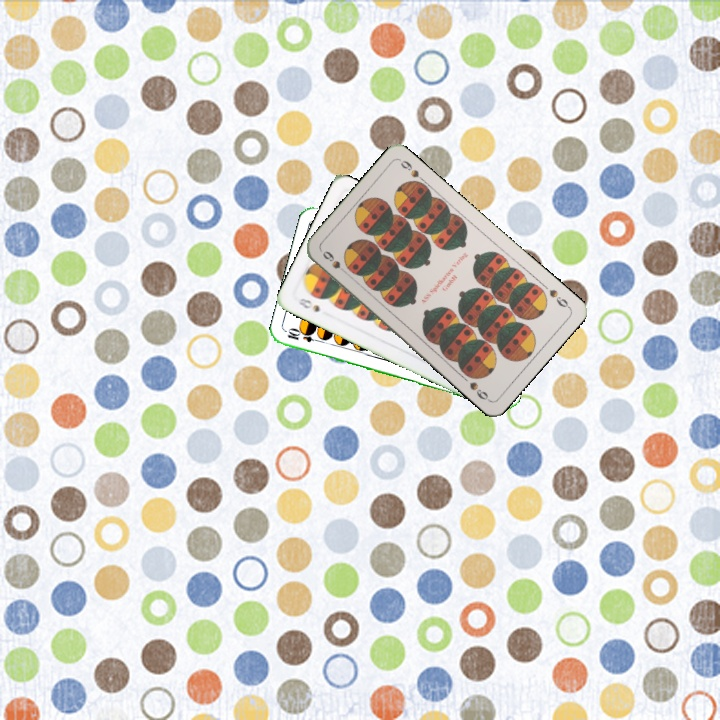E10: (283, 326, 324, 345)
S8: (294, 294, 322, 315)
S9: (318, 247, 352, 278), (545, 285, 573, 311)
